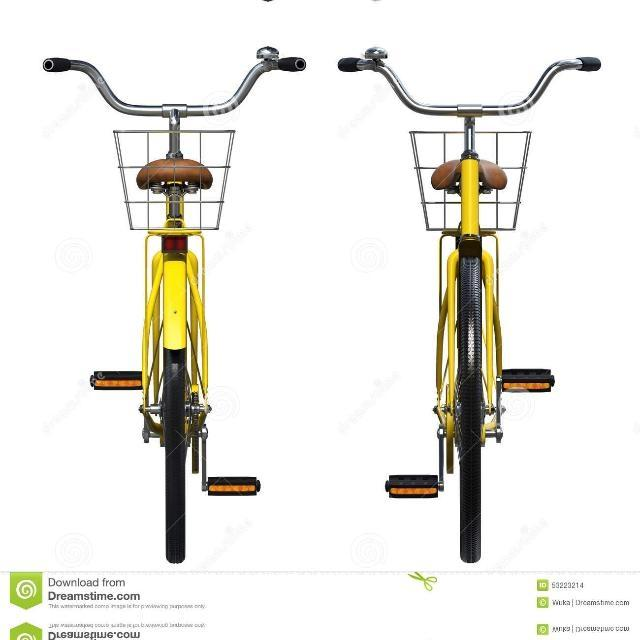obstacle: (326, 39, 616, 572), (42, 38, 314, 580), (42, 0, 314, 8), (325, 0, 616, 7)
